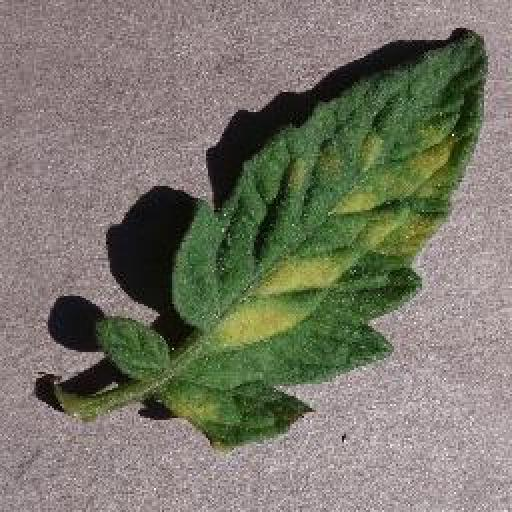Leaf Mold: (94, 31, 489, 449)
